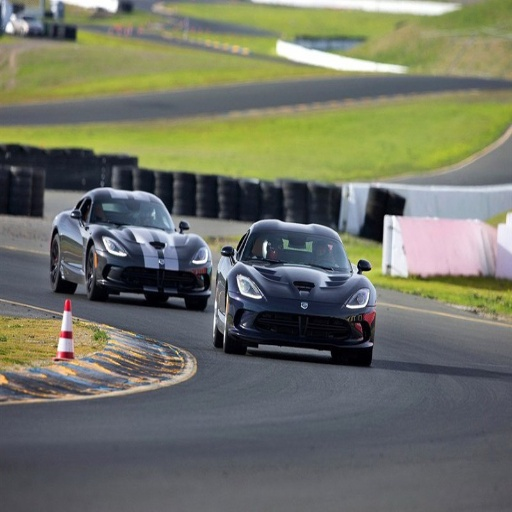back_right_door: (123, 203, 160, 259)
front_bumper: (267, 270, 376, 346)
tailgate: (375, 87, 486, 148)
